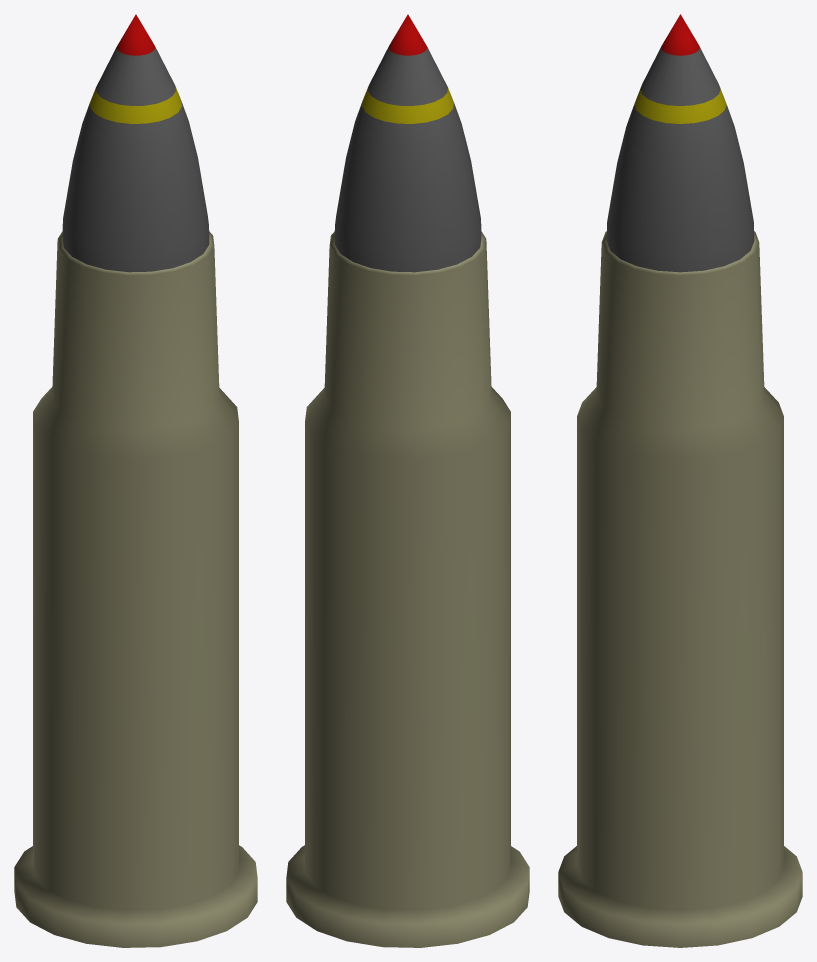
Rendered from APSFD.fbx.
The picture shows the model from 3 angles, left to right: view 1: azimuth 30°, elevation 25°; view 2: azimuth 150°, elevation 25°; view 3: azimuth 270°, elevation 25°; orthographic projection.
Visible parts, largest first — view 1: pCylinder1, pCylinder2; view 2: pCylinder1, pCylinder2; view 3: pCylinder1, pCylinder2.
Boxes of the visible parts, x1,y1,x2,y2 form: pCylinder1: (14, 231, 257, 947); pCylinder2: (62, 14, 209, 272); pCylinder1: (286, 231, 529, 947); pCylinder2: (334, 14, 481, 272); pCylinder1: (558, 231, 802, 947); pCylinder2: (606, 14, 754, 272).
Bounding box in the file's own units: 3.03 × 12.06 × 3.03.
